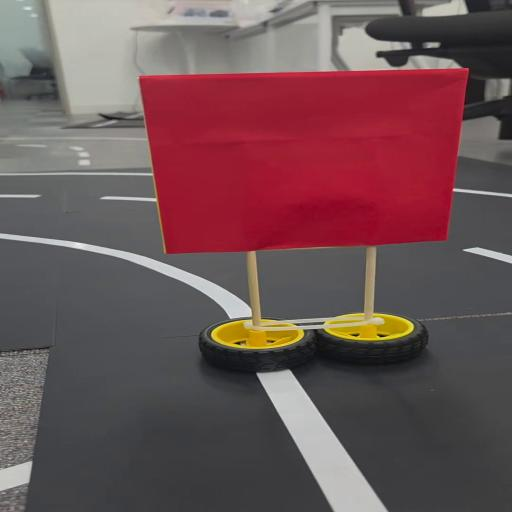Sign_A: (130, 67, 482, 372)
